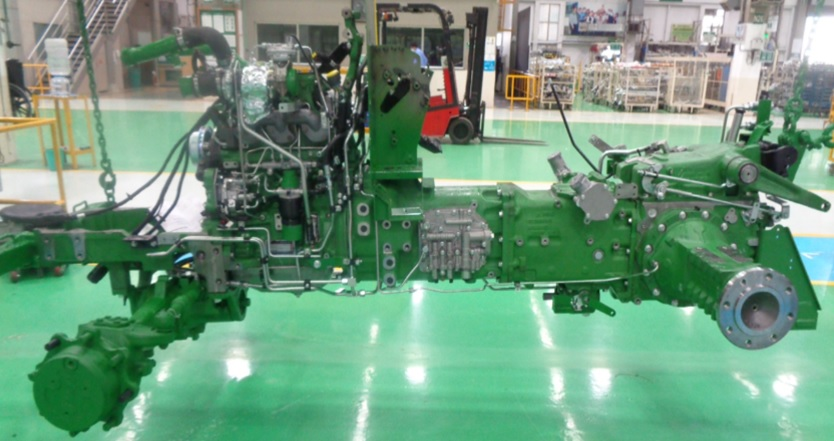engine: (26, 34, 818, 429)
